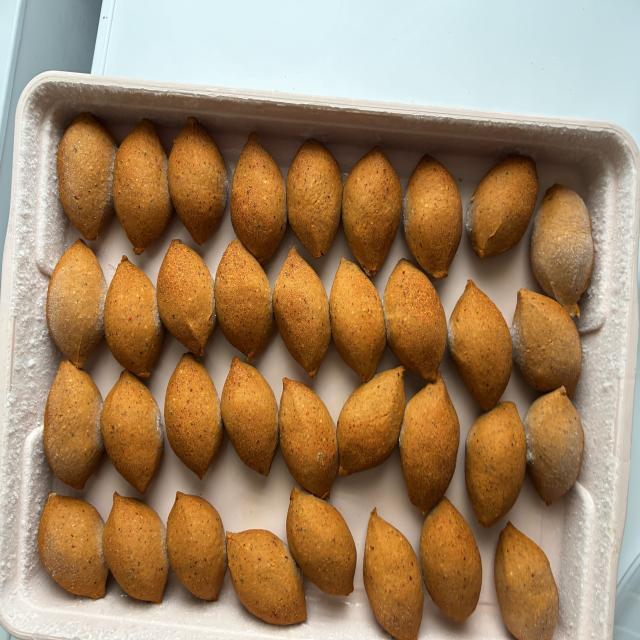kobi: (334, 356, 409, 482), (222, 516, 307, 624), (445, 282, 517, 406), (386, 250, 450, 383), (526, 188, 595, 310), (268, 374, 334, 498), (526, 380, 586, 511), (101, 363, 162, 490), (168, 111, 228, 240), (286, 488, 356, 597), (514, 291, 588, 394), (369, 506, 425, 640), (49, 236, 105, 368), (107, 478, 167, 601), (46, 357, 102, 488), (58, 120, 117, 244), (496, 526, 560, 640), (36, 504, 108, 601), (221, 357, 278, 478), (274, 245, 328, 372), (212, 240, 270, 357), (470, 402, 524, 527), (472, 152, 533, 262), (236, 135, 284, 270), (404, 384, 456, 507), (168, 355, 221, 475), (119, 123, 166, 258), (332, 261, 383, 377), (428, 503, 478, 620), (168, 501, 225, 603), (107, 262, 160, 370), (162, 242, 213, 354), (410, 154, 454, 282), (290, 139, 336, 257), (353, 146, 391, 278)
